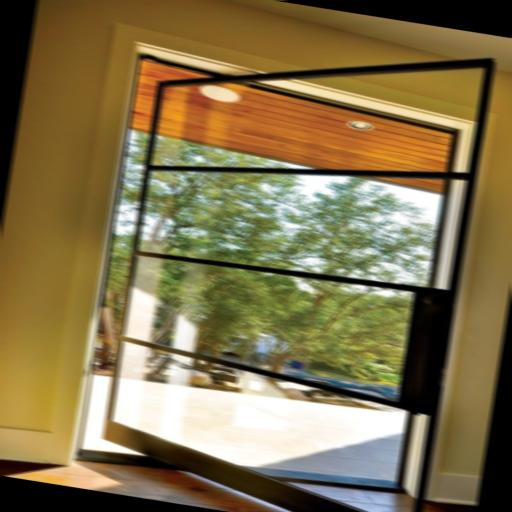Door: (68, 1, 496, 512)
